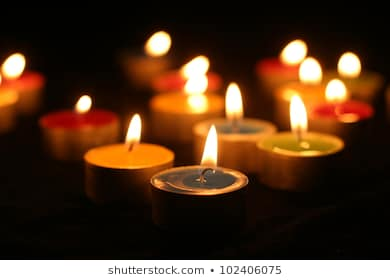Fire: (200, 126, 220, 174), (287, 93, 310, 132), (335, 50, 364, 79), (223, 83, 246, 119), (1, 53, 28, 79), (145, 32, 172, 58), (125, 112, 144, 148), (182, 56, 212, 77), (280, 39, 306, 63), (299, 58, 322, 84), (324, 80, 350, 102), (186, 94, 211, 113), (184, 77, 210, 94), (73, 95, 94, 113)
